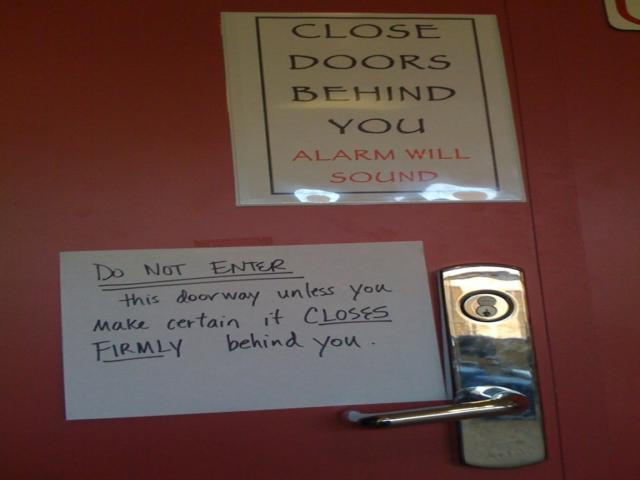Door-handle: (338, 261, 549, 469)
